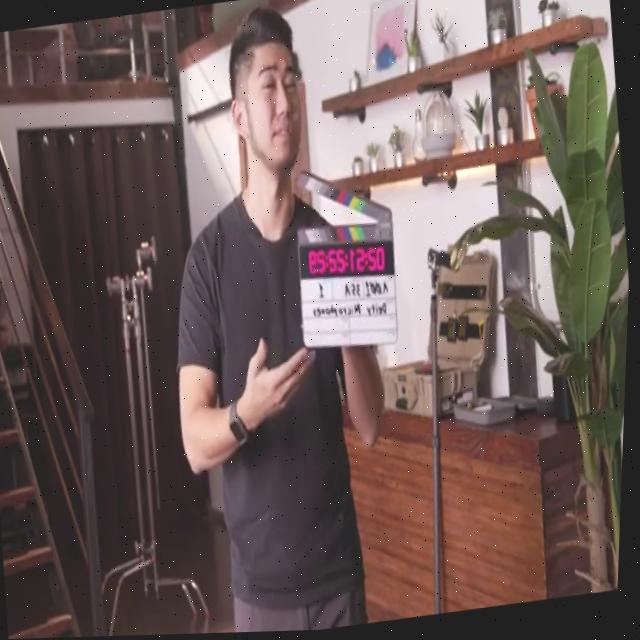Clapperboard: (293, 168, 396, 347)
